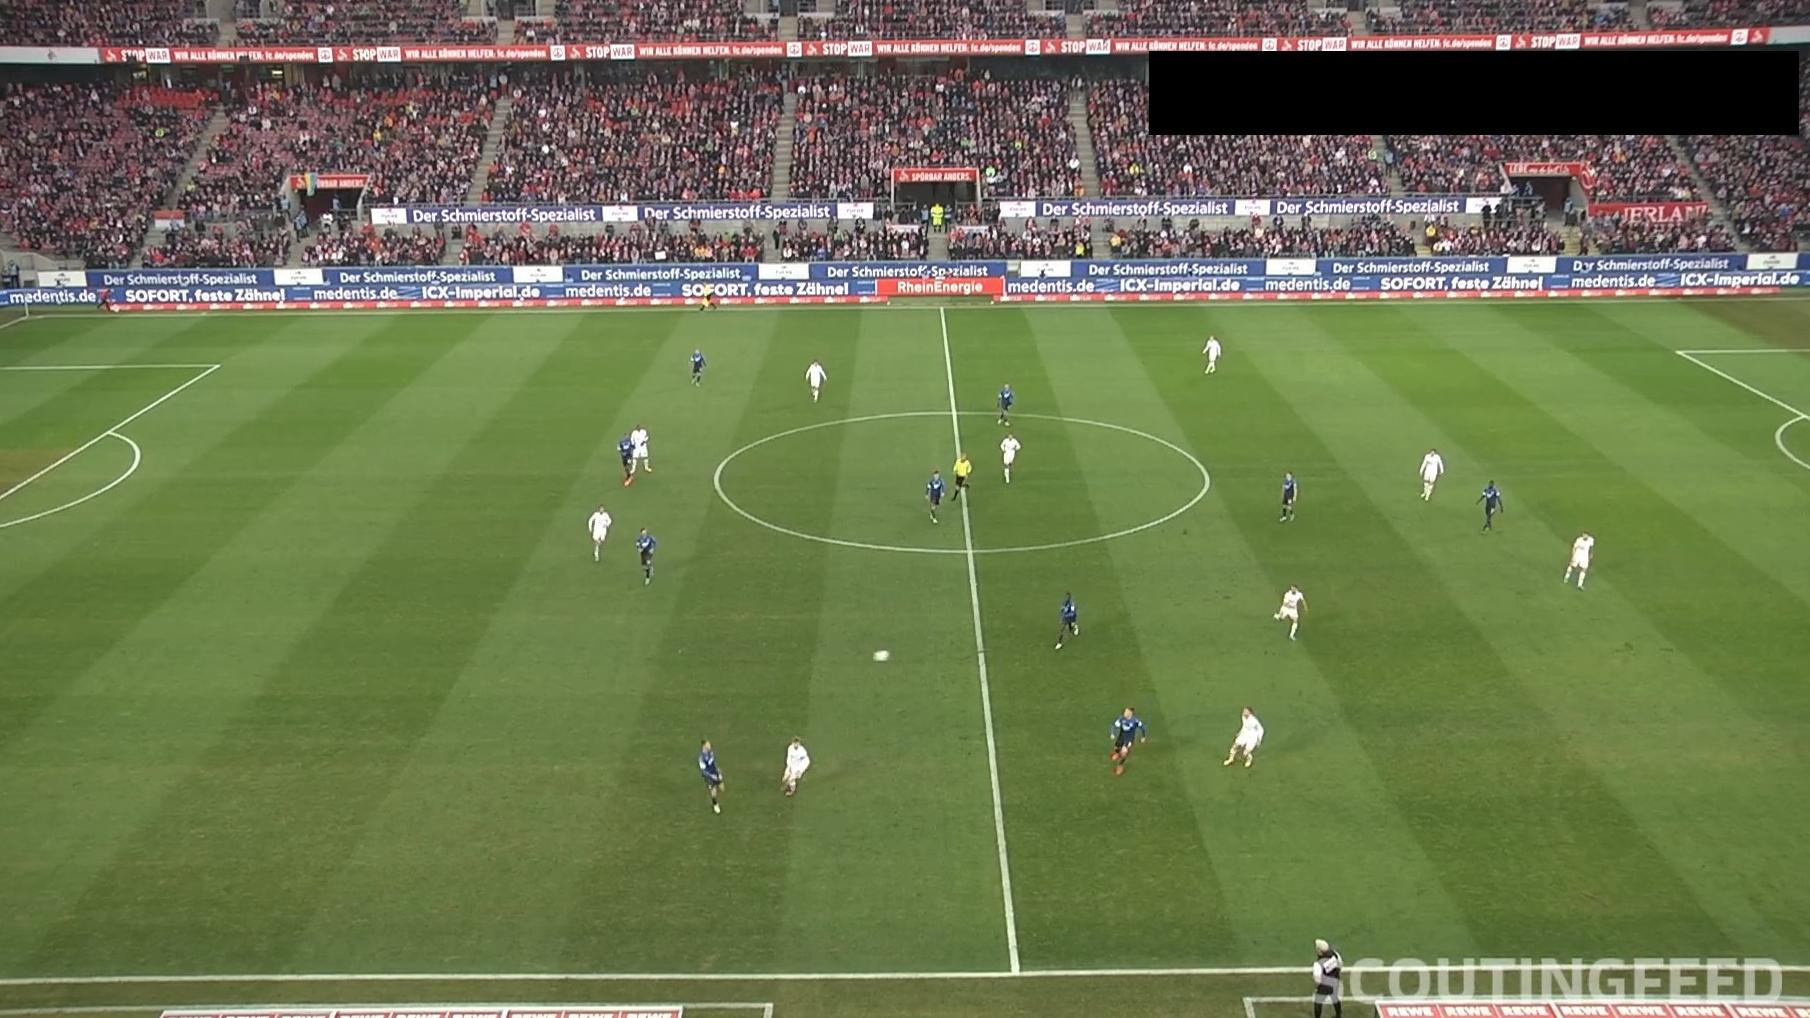ball: (873, 649, 893, 664)
